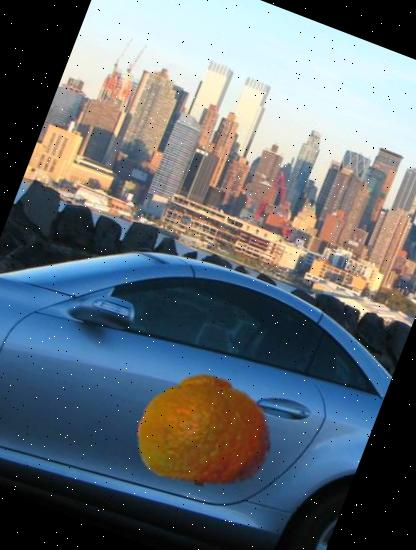Mandarine: (118, 345, 292, 519)
